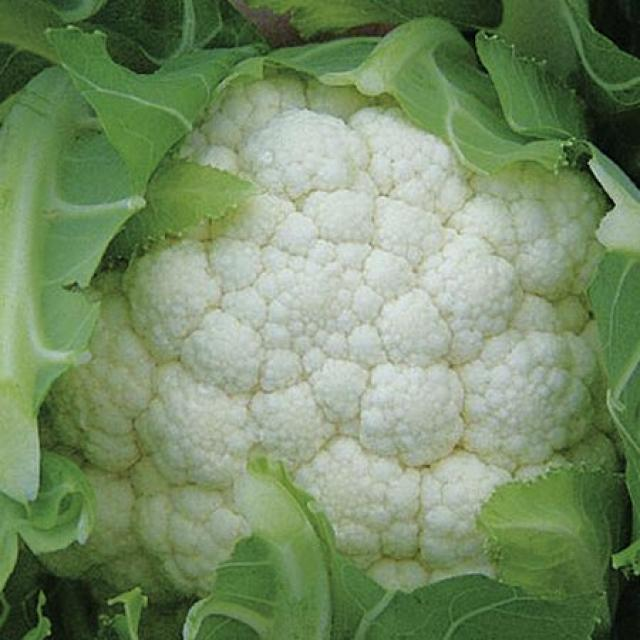cauliflower: (53, 53, 618, 591)
